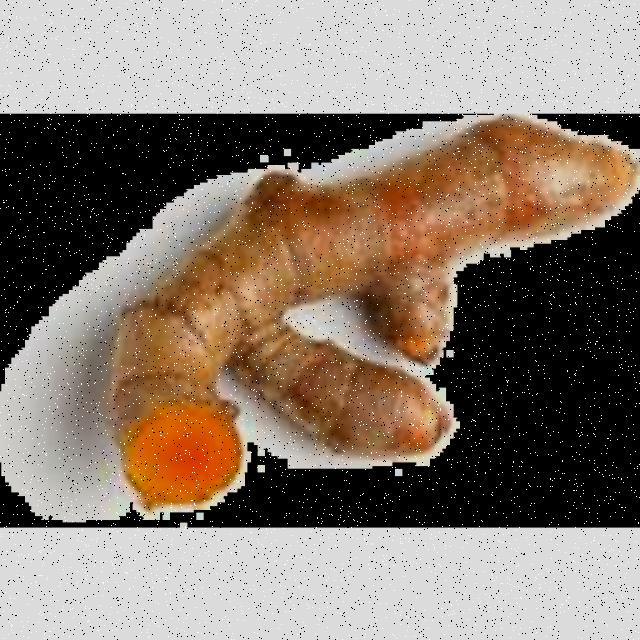turmeric: (76, 102, 640, 528)
